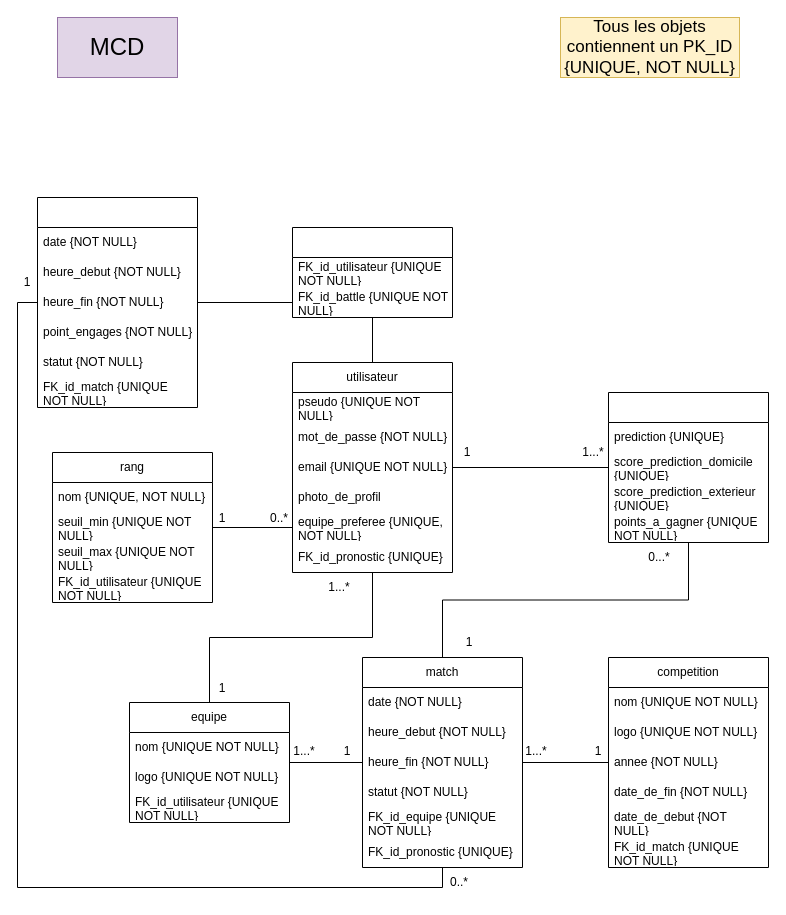
Some shapes in this 786 by 915 pixel diagram are drawn without their labels. The shapes that lost their labels are listed below. From the top down, each one's box as (x1, y1, x2, y2) in pixels, then its label:
(292, 226, 452, 318): battle_utilisateur
(36, 196, 198, 408): battle
(608, 392, 768, 542): pronostic
